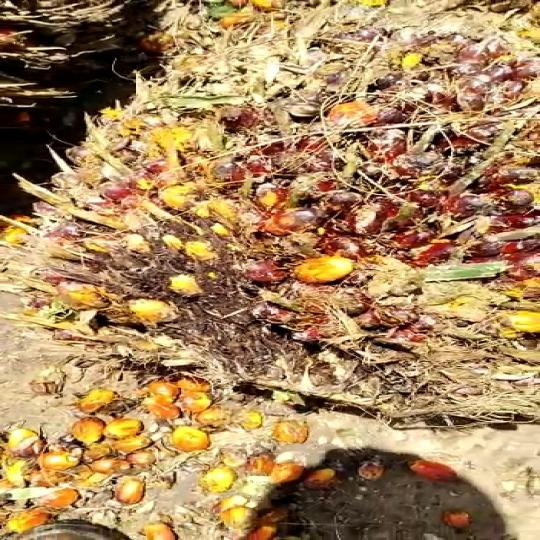kurang masak: (50, 0, 540, 426)
